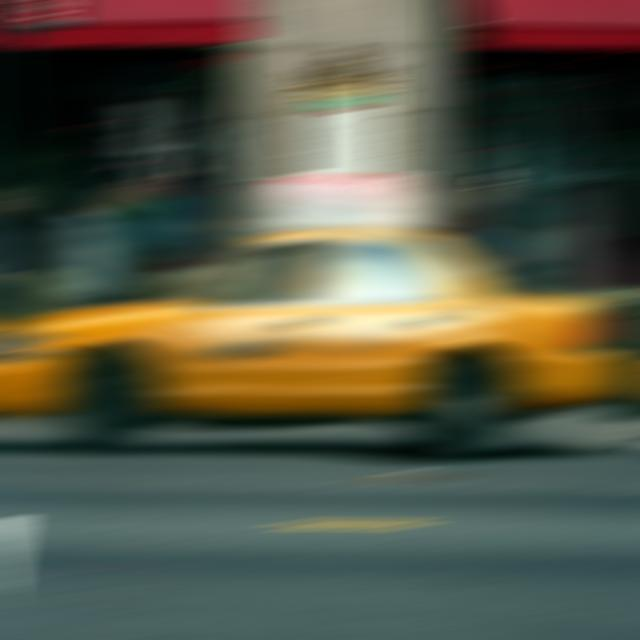Taxi: (0, 186, 640, 469)
